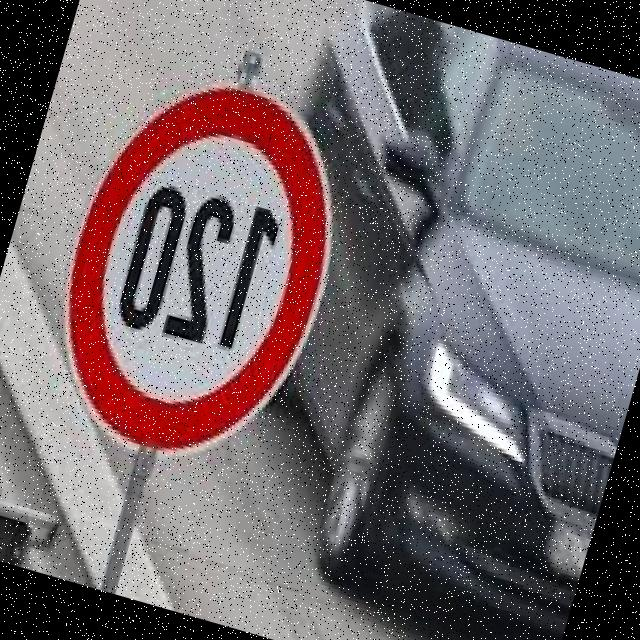speed_limit_120: (20, 39, 378, 492)
